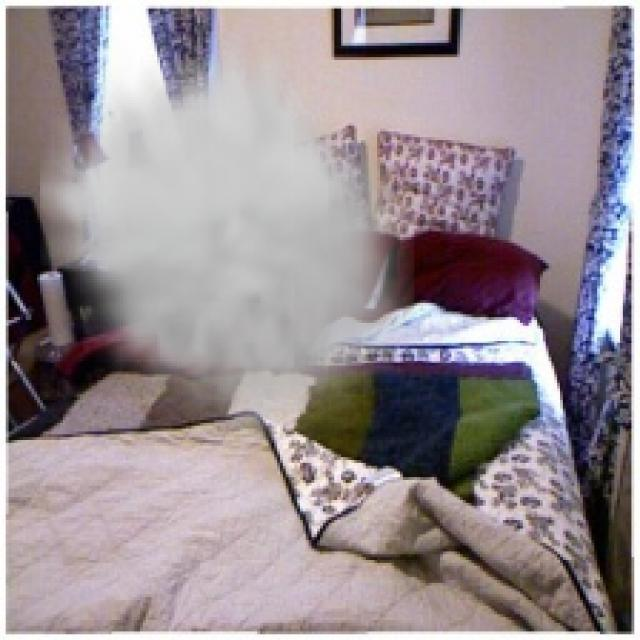Smoke: (39, 31, 414, 443)
